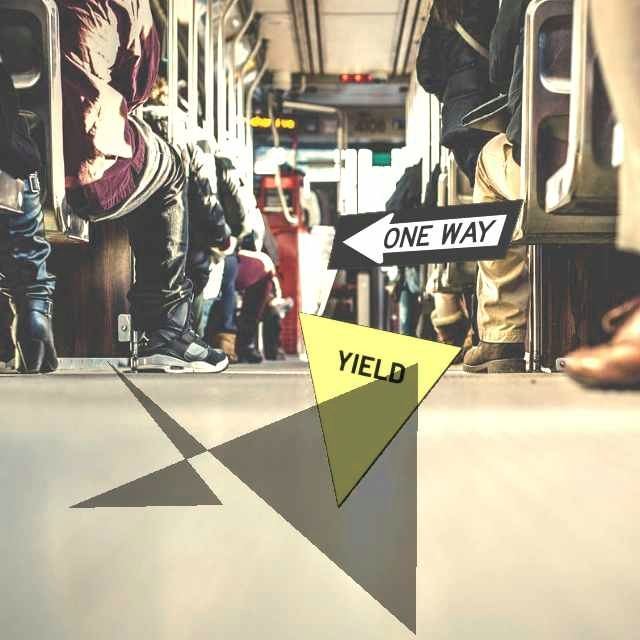ONE_WAY_ left: (326, 198, 524, 270)
YIELD: (297, 311, 464, 509)
